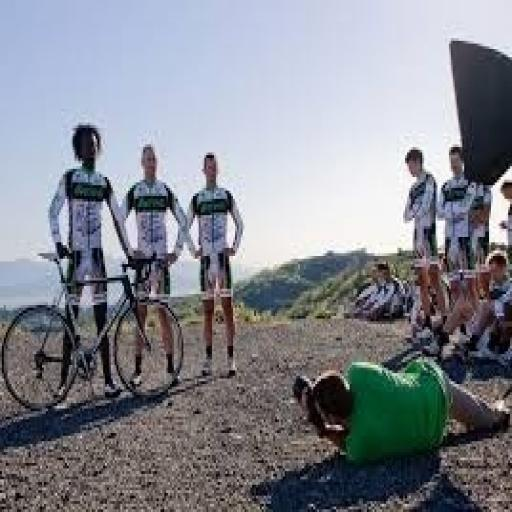cycling: (46, 120, 145, 406), (290, 349, 510, 471), (114, 142, 196, 395), (182, 147, 246, 381), (400, 144, 444, 343)
